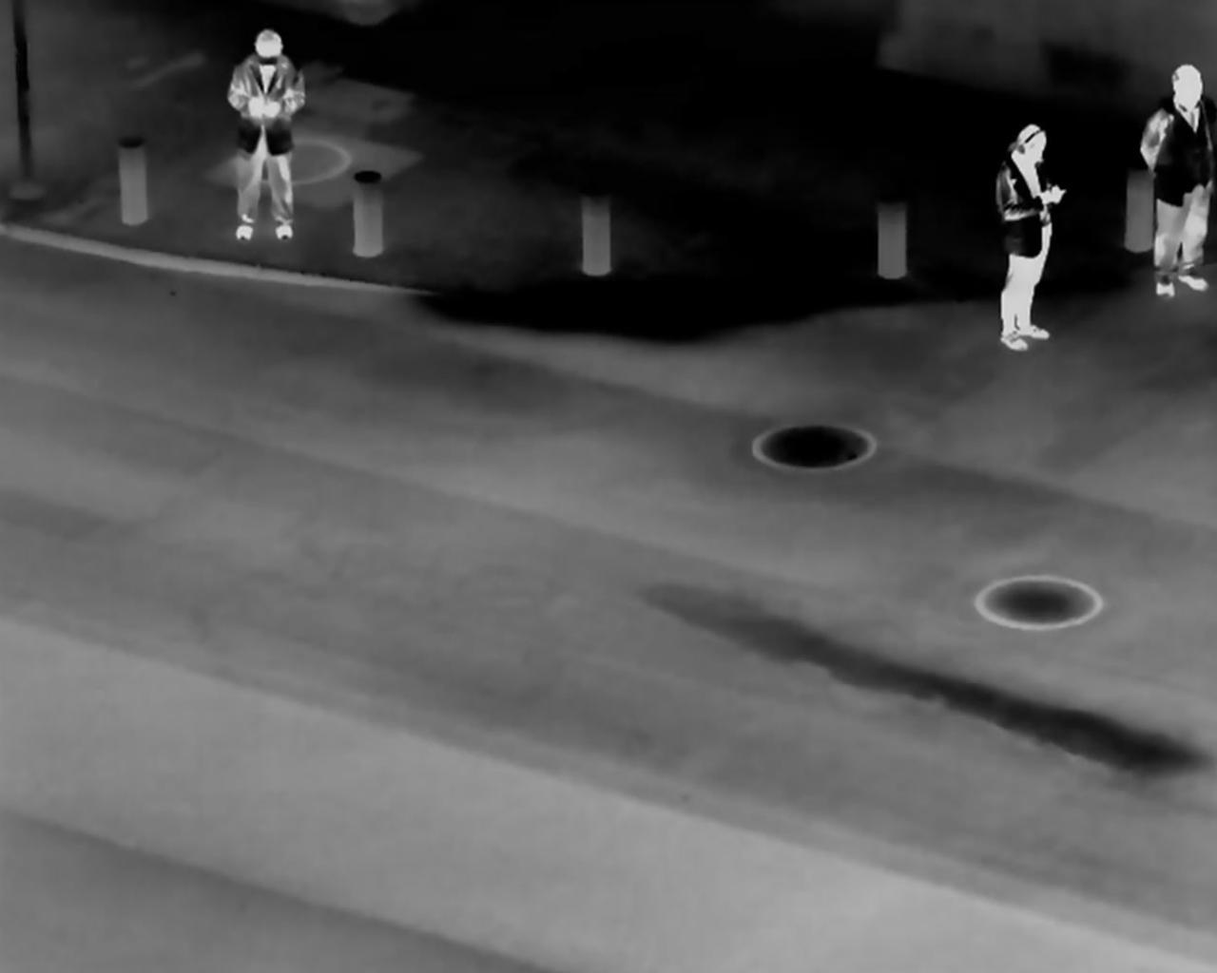person: (984, 111, 1070, 359), (221, 20, 310, 249), (1138, 57, 1217, 303)
